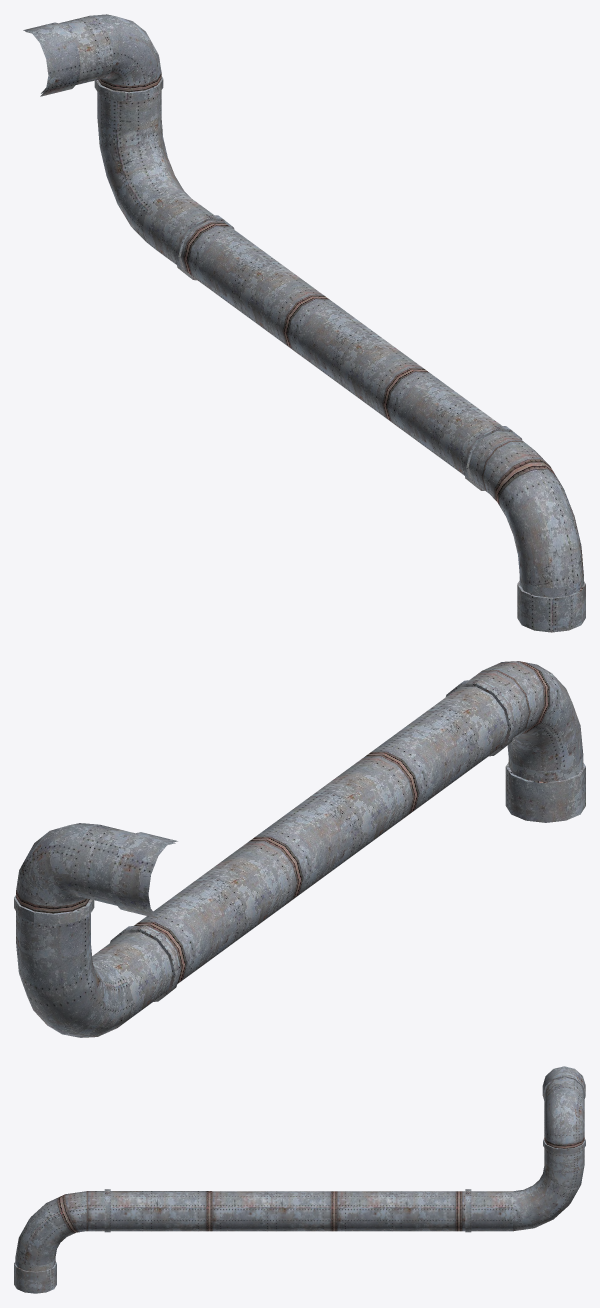
Rendered from pipecluster16d_002a.glb.
3 renders of one model, top to bottom at view 1: azimuth 30°, elevation 25°; view 2: azimuth 150°, elevation 25°; view 3: azimuth 270°, elevation 25°, orthographic. The views are drawn at different scales.
Visible parts, largest first — view 1: 0_pipeset_metal02; view 2: 0_pipeset_metal02; view 3: 0_pipeset_metal02.
Boxes of the visible parts, x1,y1,x2,y2 form: 0_pipeset_metal02: (23,14,585,632); 0_pipeset_metal02: (14,661,585,1037); 0_pipeset_metal02: (14,1066,585,1293).
Bounding box in the file's own units: 0.9361 × 2.1 × 5.78.
1 material, 1 textured.
